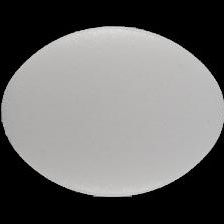29300-137: (0, 0, 224, 224)
